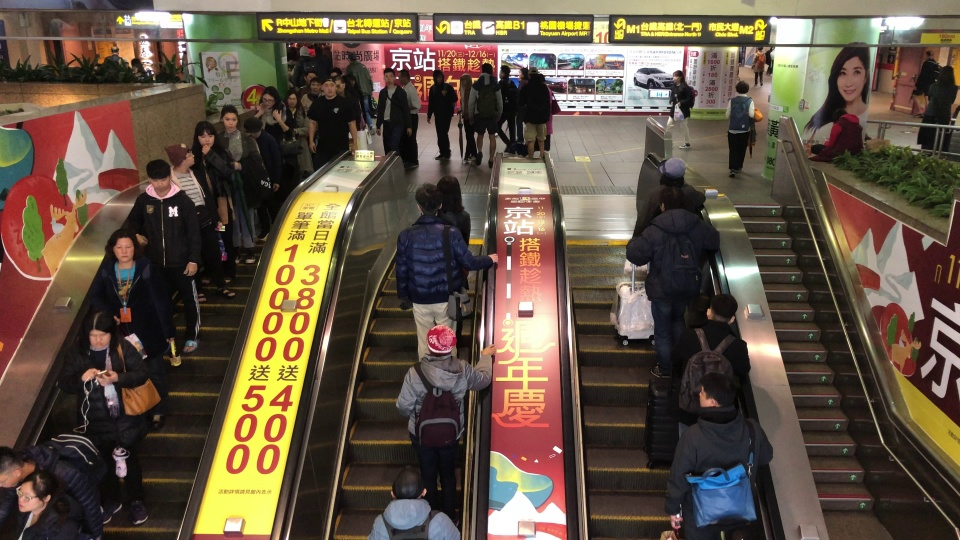person_head: (15, 473, 52, 515), (698, 374, 736, 408), (392, 463, 425, 501), (84, 312, 116, 350), (104, 228, 138, 263), (423, 324, 457, 358), (436, 175, 465, 212), (705, 294, 738, 324), (0, 445, 23, 487), (163, 143, 195, 173), (414, 183, 442, 216), (145, 159, 172, 193), (657, 157, 686, 186), (658, 187, 690, 210), (194, 120, 216, 148), (259, 86, 280, 111), (219, 105, 238, 131), (242, 116, 264, 138), (318, 78, 336, 98), (938, 66, 956, 85), (333, 74, 346, 95), (284, 89, 298, 108), (734, 80, 750, 96), (396, 69, 411, 86), (458, 73, 473, 90), (669, 69, 686, 84), (381, 68, 396, 84), (477, 62, 493, 77), (832, 109, 848, 124), (430, 69, 444, 84), (498, 65, 511, 80), (346, 73, 357, 86), (131, 56, 142, 67), (923, 51, 935, 61), (118, 57, 129, 67), (518, 68, 528, 79), (347, 52, 356, 63), (110, 46, 119, 56), (528, 68, 538, 77), (323, 45, 331, 53), (538, 72, 545, 81), (755, 44, 763, 51), (302, 43, 307, 48)
person_vbox: (55, 312, 151, 525), (393, 324, 494, 522), (395, 182, 498, 363), (625, 187, 721, 377), (120, 159, 203, 361), (669, 373, 774, 530), (95, 228, 164, 466), (163, 140, 235, 305), (674, 294, 752, 438), (0, 444, 103, 540), (189, 119, 236, 284), (365, 463, 461, 540), (218, 104, 258, 264), (630, 157, 707, 236), (7, 473, 87, 540), (252, 86, 299, 197), (241, 116, 283, 240), (308, 77, 357, 166), (723, 80, 764, 177), (375, 67, 412, 171), (467, 63, 504, 167), (916, 65, 959, 150), (806, 109, 865, 164), (435, 174, 472, 258), (426, 68, 459, 160), (283, 90, 315, 180), (395, 68, 422, 168), (663, 69, 696, 150), (522, 67, 550, 159), (345, 52, 376, 135), (495, 63, 519, 155), (456, 72, 479, 162), (911, 50, 943, 107), (333, 74, 363, 132), (536, 73, 555, 150), (345, 72, 368, 128), (516, 66, 529, 141), (751, 44, 766, 87), (319, 44, 333, 76), (130, 55, 148, 77), (103, 45, 122, 64), (118, 56, 131, 74), (299, 42, 310, 56)
